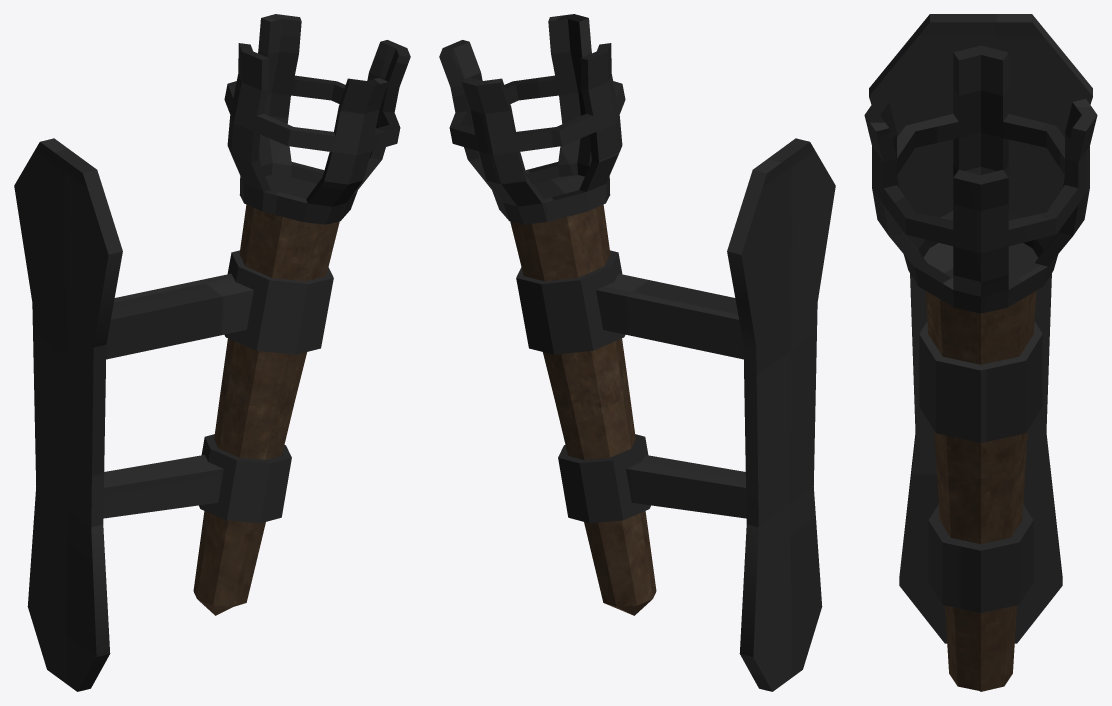
File: Torch2.0.fbx
The picture shows the model from 3 angles, left to right: view 1: azimuth 30°, elevation 25°; view 2: azimuth 150°, elevation 25°; view 3: azimuth 270°, elevation 25°; orthographic projection. The views are drawn at different scales.
Visible parts, largest first — view 1: Torch Holder, Torch Head, Torch Handle; view 2: Torch Holder, Torch Head, Torch Handle; view 3: Torch Holder, Torch Head, Torch Handle.
Boxes of the visible parts, x1=… form: Torch Holder: x1=14, y1=138, x2=333, y2=691; Torch Head: x1=224, y1=14, x2=410, y2=224; Torch Handle: x1=193, y1=204, x2=339, y2=615; Torch Holder: x1=516, y1=138, x2=835, y2=691; Torch Head: x1=439, y1=14, x2=625, y2=224; Torch Handle: x1=510, y1=204, x2=656, y2=615; Torch Holder: x1=869, y1=14, x2=1092, y2=643; Torch Head: x1=864, y1=45, x2=1097, y2=313; Torch Handle: x1=925, y1=291, x2=1036, y2=691.
Bounding box in the file's own units: 313 × 506 × 154.
2 materials, 2 textured.
